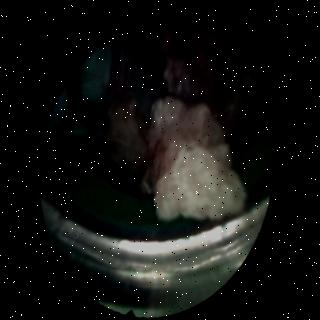fiber: (47, 85, 66, 132)
stone: (99, 89, 244, 218)
